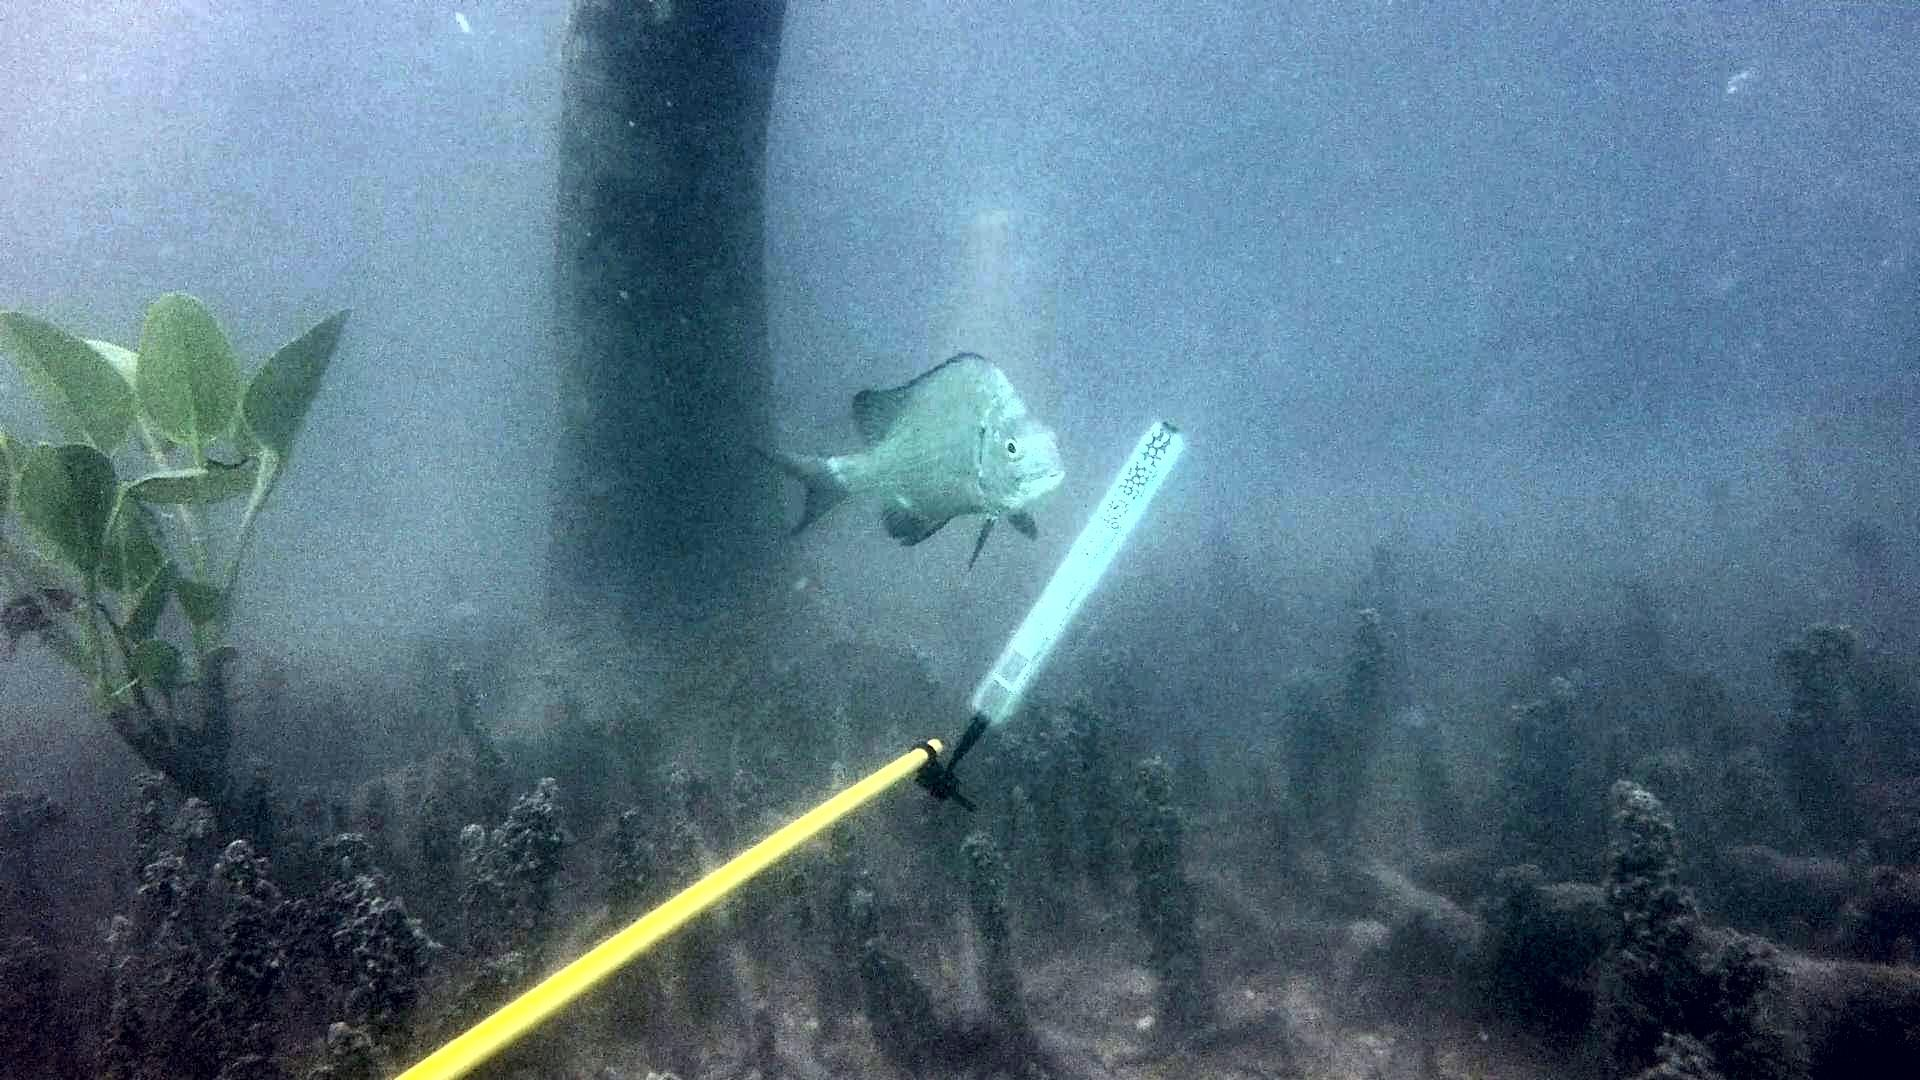acanthopagrus palmaris: (723, 335, 1076, 584)
